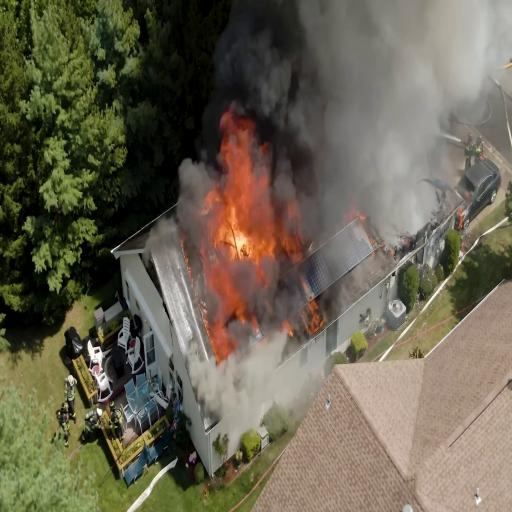fire: (193, 108, 276, 278)
smoke: (320, 0, 449, 187)
